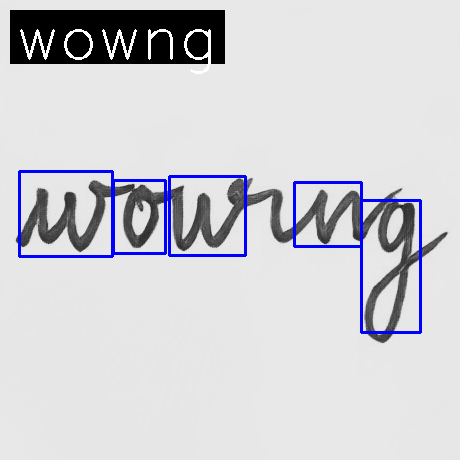g: (361, 194, 417, 347)
i: (257, 183, 297, 247)
n: (308, 184, 366, 245)
o: (118, 182, 162, 250)
w: (29, 175, 106, 255), (167, 180, 247, 253)
